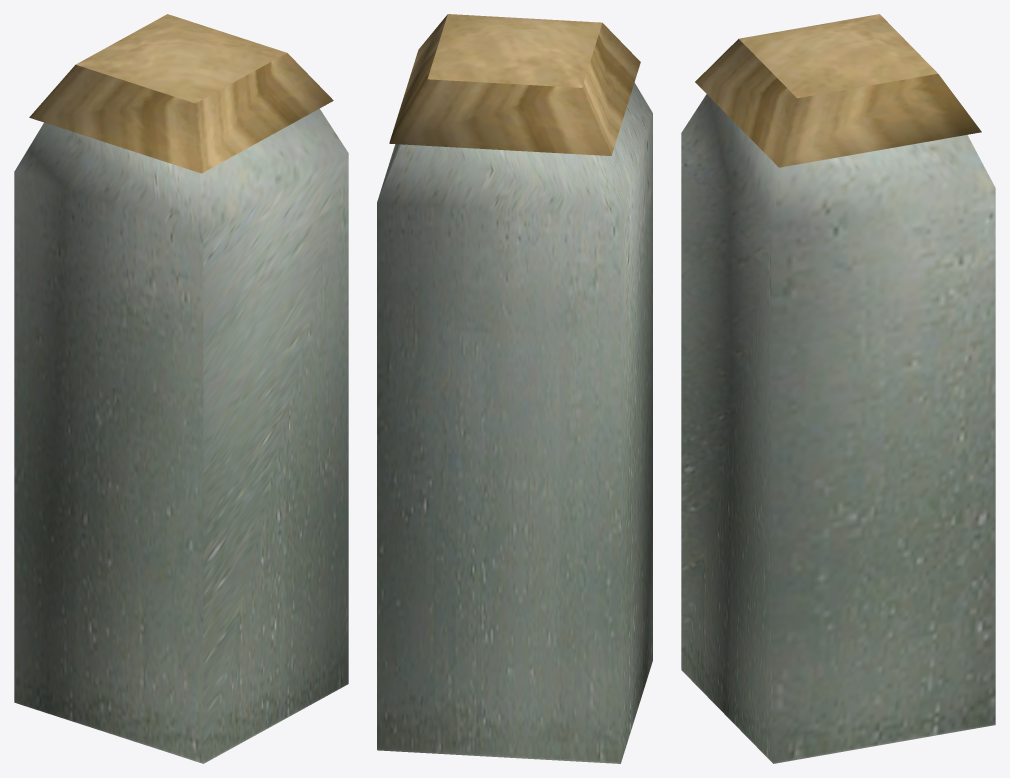
The model's file is edb_con_tato_jar_spice_s02_l2.fbx.
3 renders of one model, left to right at view 1: azimuth 30°, elevation 25°; view 2: azimuth 150°, elevation 25°; view 3: azimuth 270°, elevation 25°, orthographic. The views are drawn at different scales.
Visible parts, largest first — view 1: mesh_node; view 2: mesh_node; view 3: mesh_node.
Part boxes in pixels (x1,y1,x2,y2): mesh_node: (14,14,348,763); mesh_node: (377,14,652,763); mesh_node: (681,14,995,763).
Bounding box in the file's own units: 0.126 × 0.2897 × 0.126.
